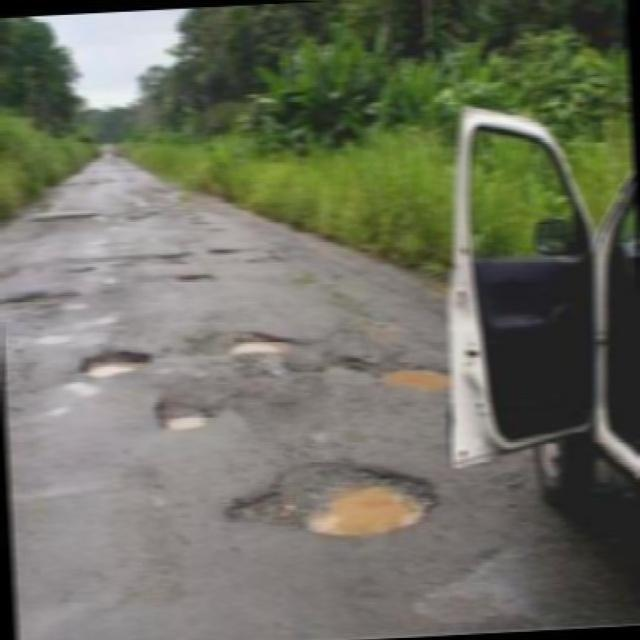Pothole: (211, 456, 448, 536), (326, 350, 449, 398), (0, 255, 136, 286), (210, 324, 306, 358), (80, 347, 154, 384), (0, 286, 94, 314), (152, 394, 217, 434), (115, 187, 173, 229), (7, 331, 81, 350), (24, 210, 100, 227), (149, 248, 196, 268), (87, 307, 124, 332), (173, 270, 221, 289), (202, 243, 241, 262)
